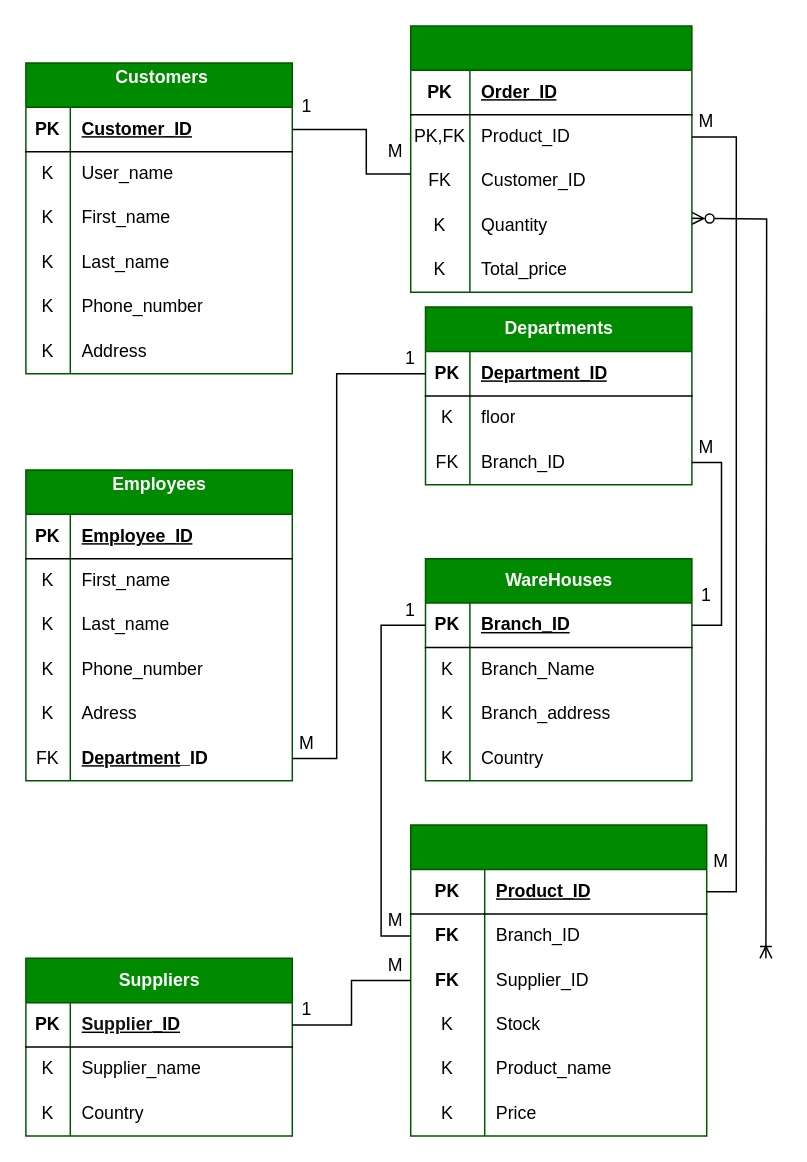
Some shapes in this 807 by 1162 pixel diagram are drawn without their labels. The shapes that lost their labels are listed below. From the top down, each one's box as (x1, y1, x2, y2) in pixels, then its label:
(409, 24, 692, 292): Orders
(409, 824, 707, 1136): Inventory
